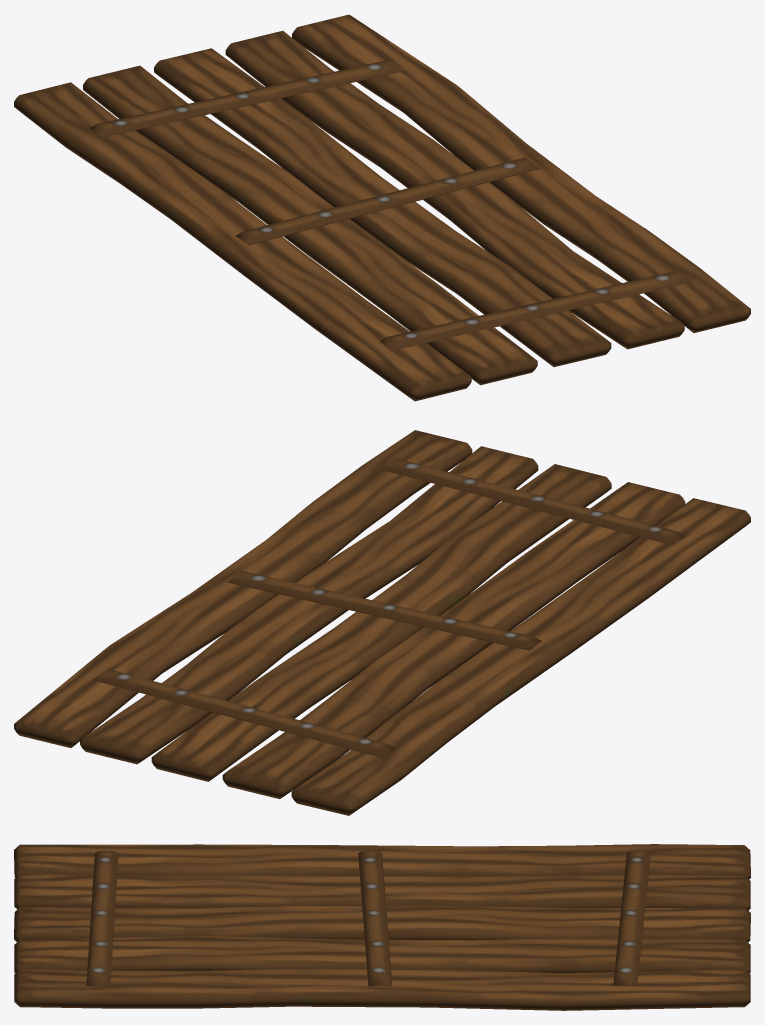
File: drawbridge_model.glb
3 views of the same model, one above another, from view 1: azimuth 30°, elevation 25°; view 2: azimuth 150°, elevation 25°; view 3: azimuth 270°, elevation 25° (orthographic). The views are drawn at different scales.
Visible parts, largest first — view 1: drawbridge_t1; view 2: drawbridge_t1; view 3: drawbridge_t1.
Boxes of the visible parts, x1=… form: drawbridge_t1: x1=14, y1=14, x2=750, y2=401; drawbridge_t1: x1=14, y1=430, x2=750, y2=815; drawbridge_t1: x1=14, y1=844, x2=750, y2=1010.
Size of what is drawn, in the model's own units: 3.61 by 0.2045 by 7.16.
1 material, 1 textured.
